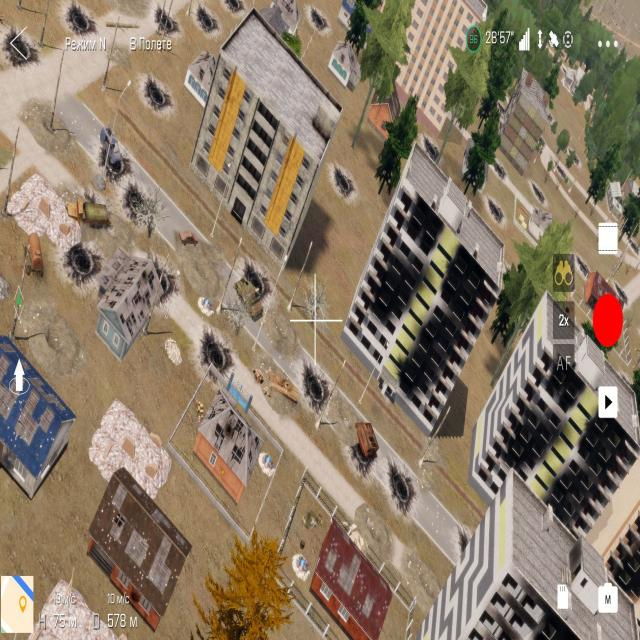fortification: (431, 450, 640, 639), (358, 126, 494, 406), (193, 0, 337, 249), (505, 270, 636, 496), (80, 470, 191, 629), (177, 377, 271, 533), (296, 494, 389, 640), (365, 0, 475, 122), (0, 330, 78, 496), (90, 243, 162, 359), (181, 46, 221, 102)
infantry: (228, 269, 268, 330), (67, 186, 112, 235), (90, 117, 124, 179), (18, 220, 48, 290), (262, 365, 304, 412), (347, 418, 383, 468), (171, 217, 197, 248)
